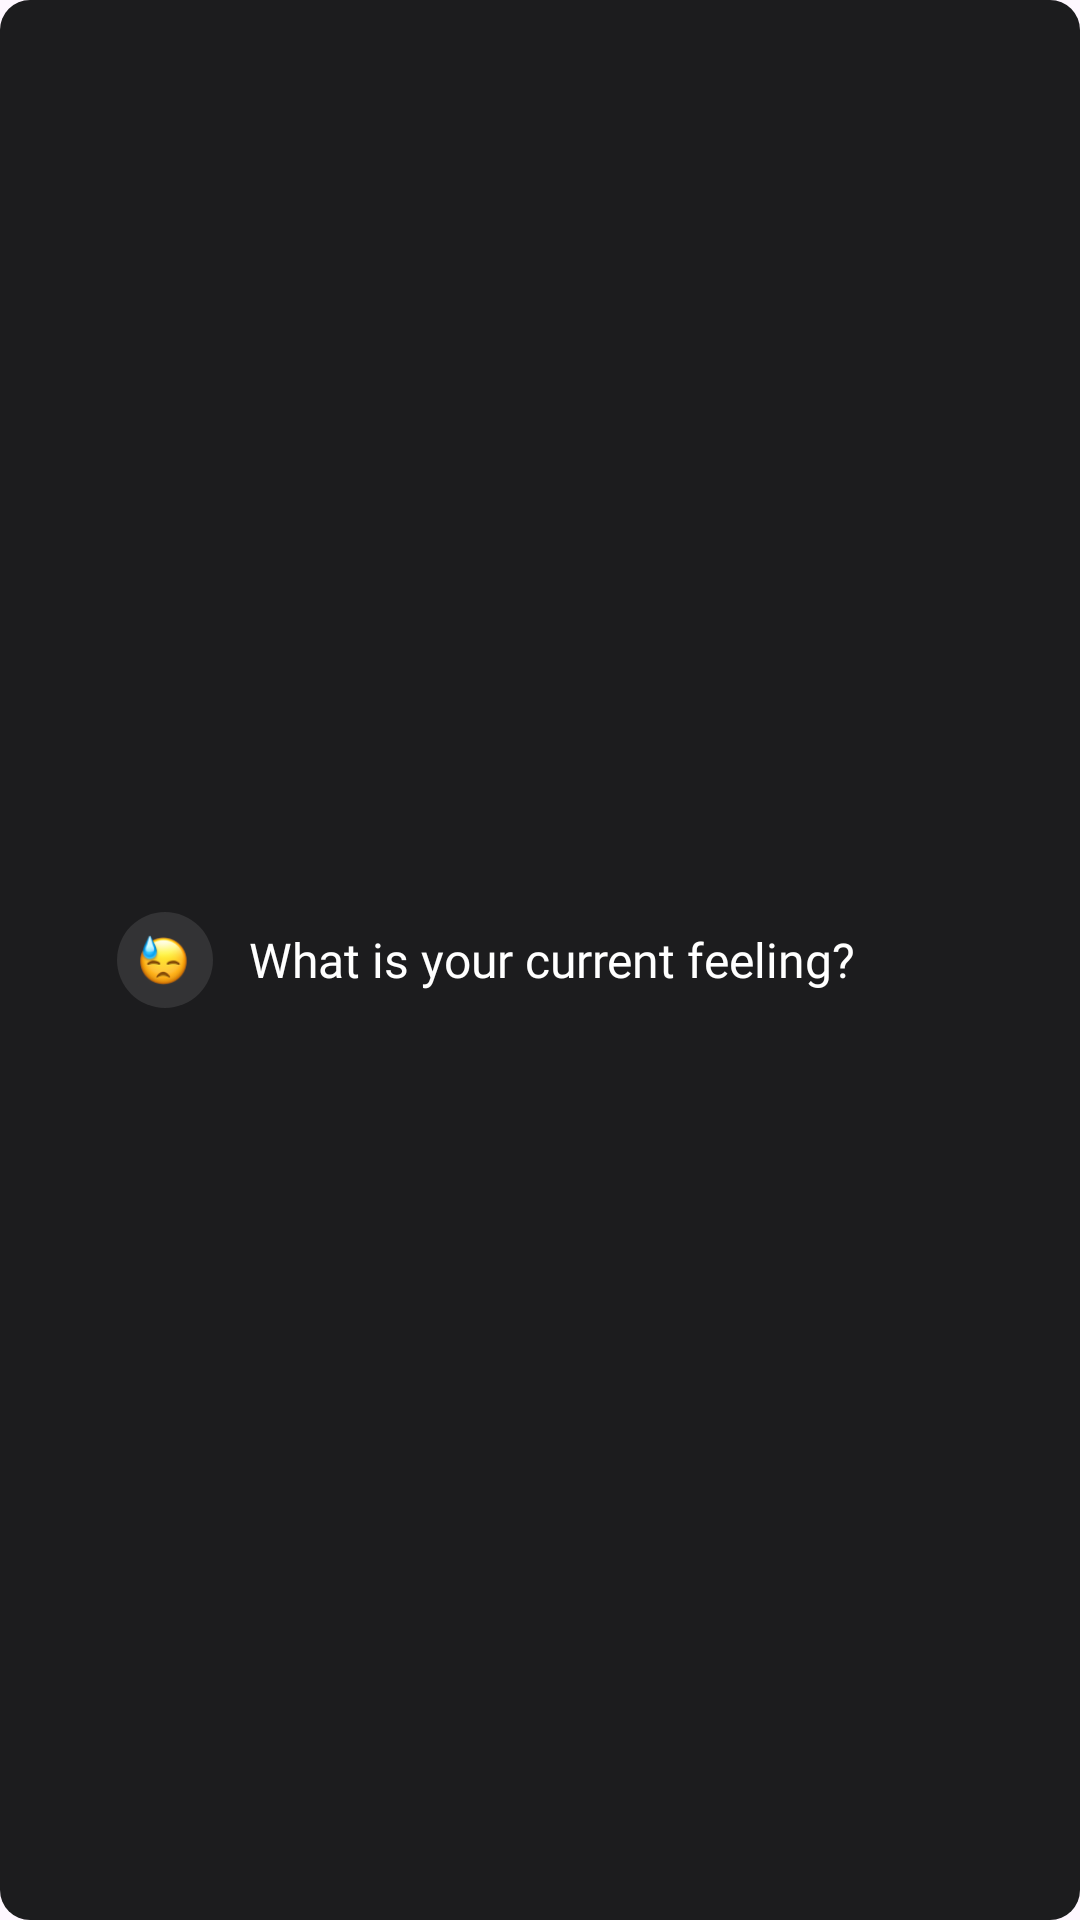

Where to tap for icons on this 1080 × 1920 app screen, as (x,y):
sad: (163,960)
